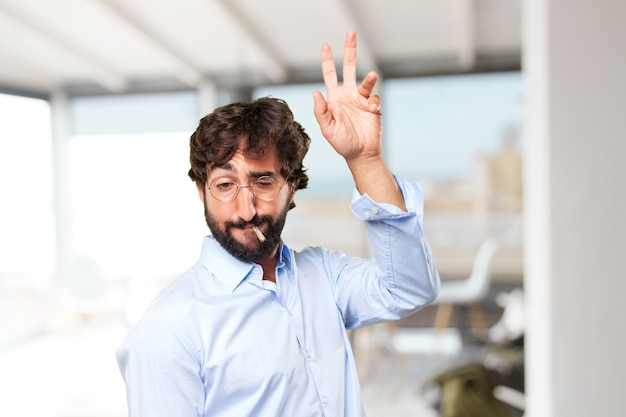cigarette: (251, 224, 268, 243)
